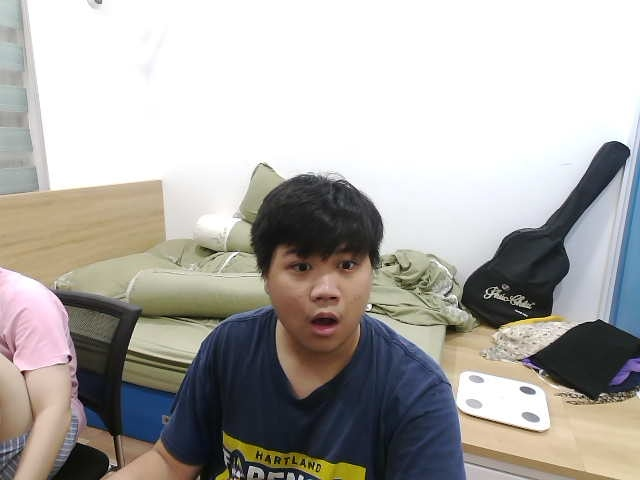face: (251, 173, 384, 354)
